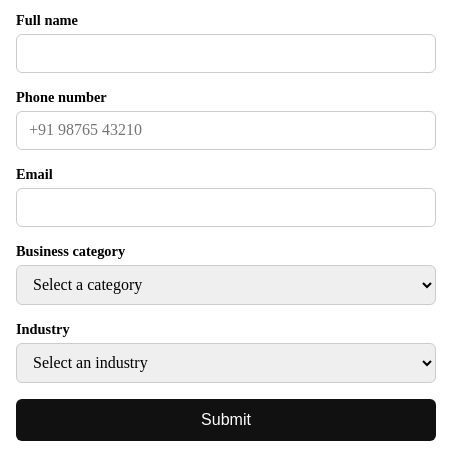
it: LeadForm › shows a success state and resets the form after a successful submission
Type "Vansh Shah" into the field labelled "Full name" at (226, 53), box [16,34,436,73]
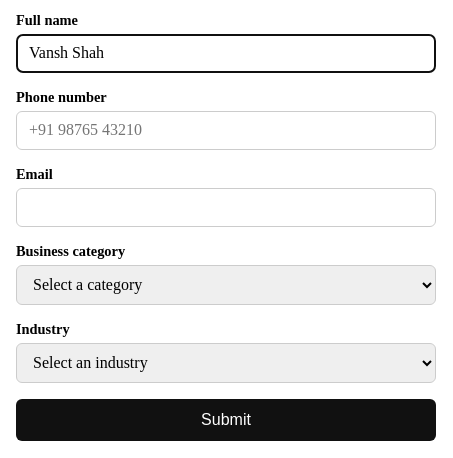
Type "+919876543210" into the field labelled "Phone number" at (226, 130), box [16,111,436,150]
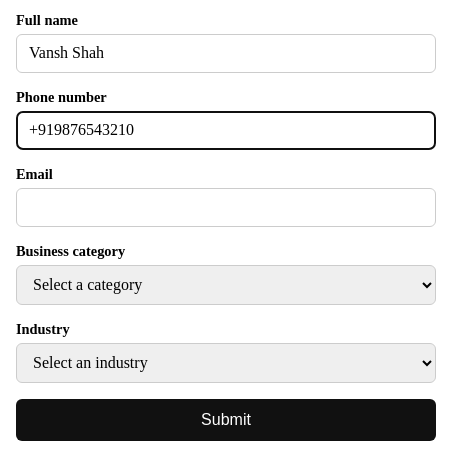
Type "vansh@example.com" into the field labelled "Email" at (226, 207), box [16,188,436,227]
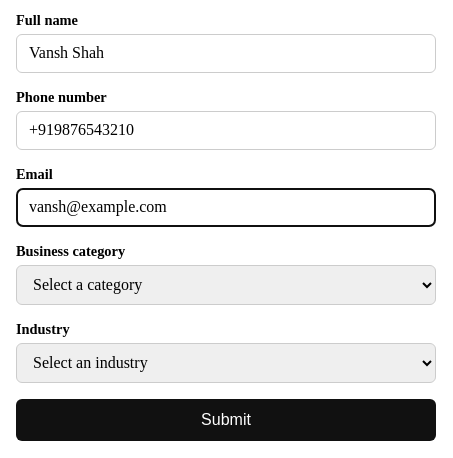
Select "Manufacturing" in the dropdown labelled "Business category" at (226, 285), box [16,265,436,305]
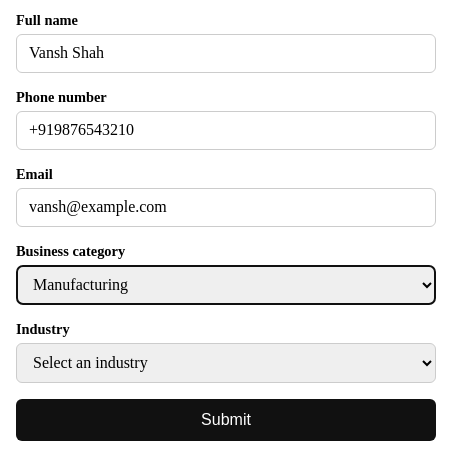
Select "Textiles & Fabrics" in the dropdown labelled "Industry" at (226, 363), box [16,343,436,383]
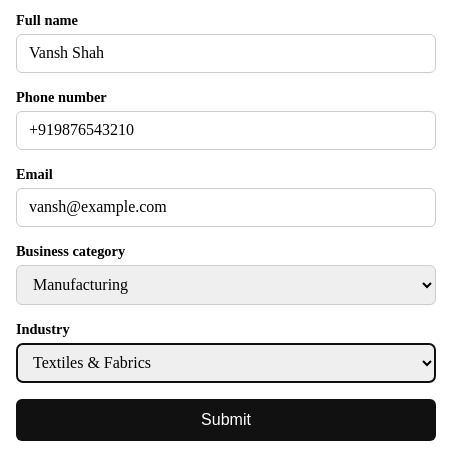
Click the button "Submit" at (226, 420), box [16,399,436,441]
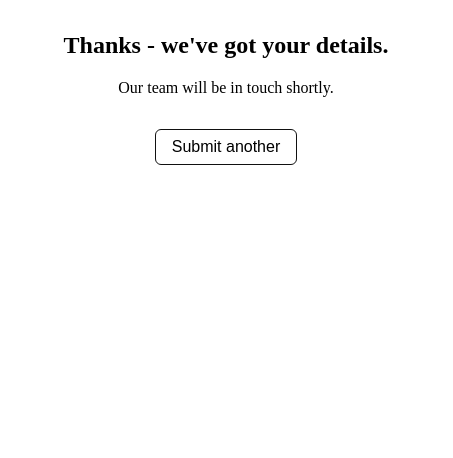
Result: the message shows "we've got your details" at [64,32,388,58]
